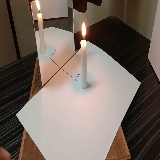fire: (81, 21, 86, 40)
